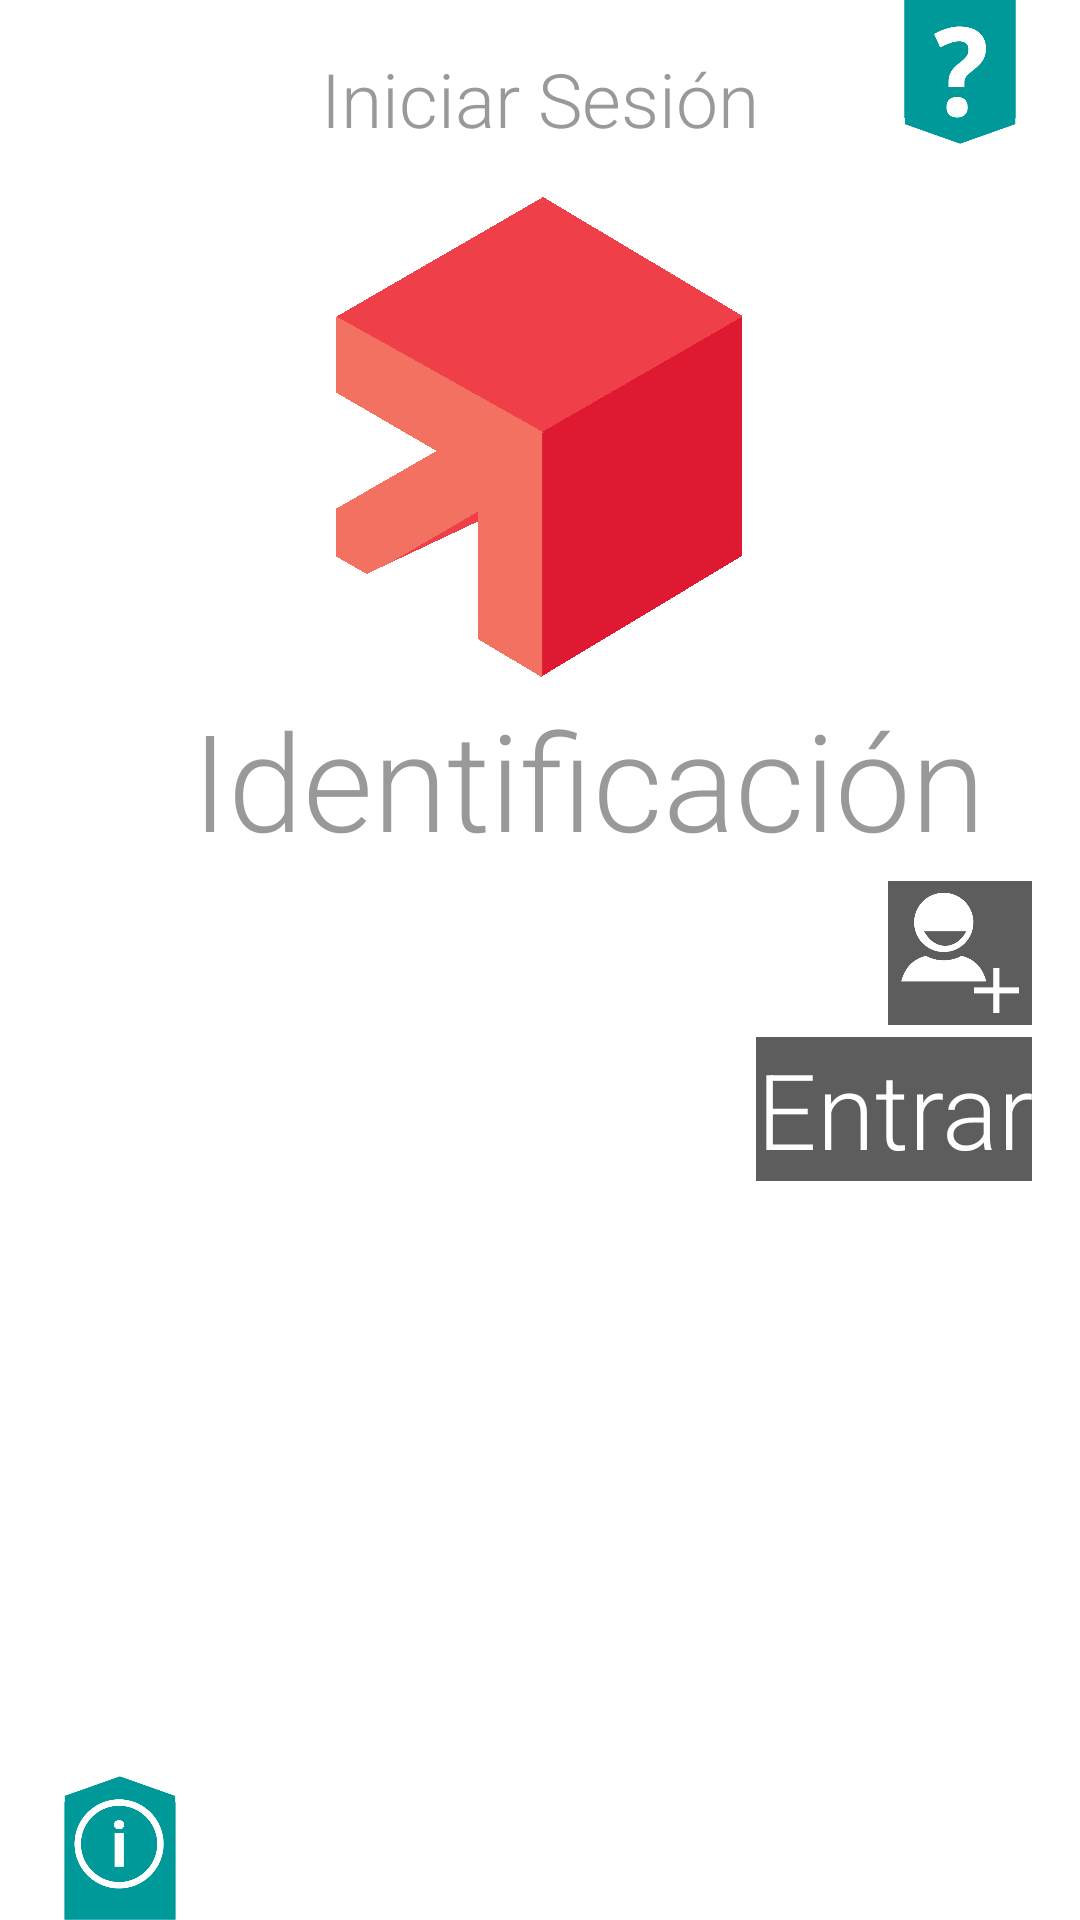

Icons on this 1080w x 1920h Android screen, each with the point to tap as [x,y]:
Acerca de: [120,1848]
